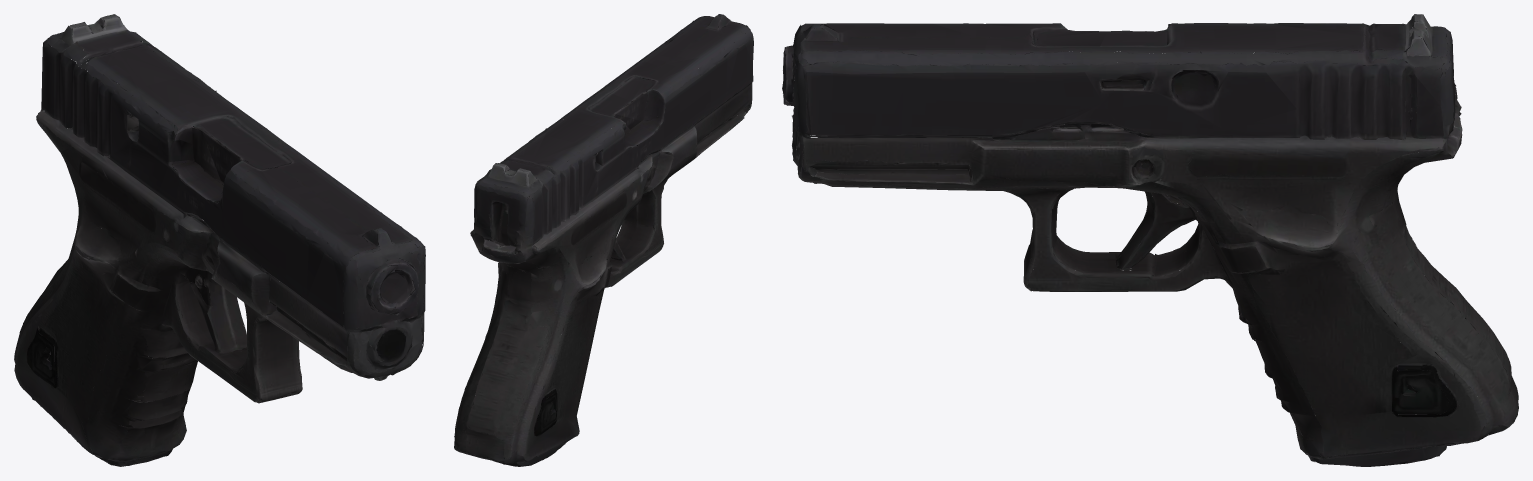
The model's file is glock.glb.
3 views of the same model, side by side, from view 1: azimuth 30°, elevation 25°; view 2: azimuth 150°, elevation 25°; view 3: azimuth 270°, elevation 25° (orthographic). The views are drawn at different scales.
Visible parts, largest first — view 1: glock; view 2: glock; view 3: glock.
Boxes of the visible parts, bbox=[...] form: glock: bbox=[14, 14, 425, 466]; glock: bbox=[454, 14, 753, 466]; glock: bbox=[782, 14, 1518, 466].
Size of the model in its own units: 0.0388 by 0.1195 by 0.187.
1 material, 1 textured.
